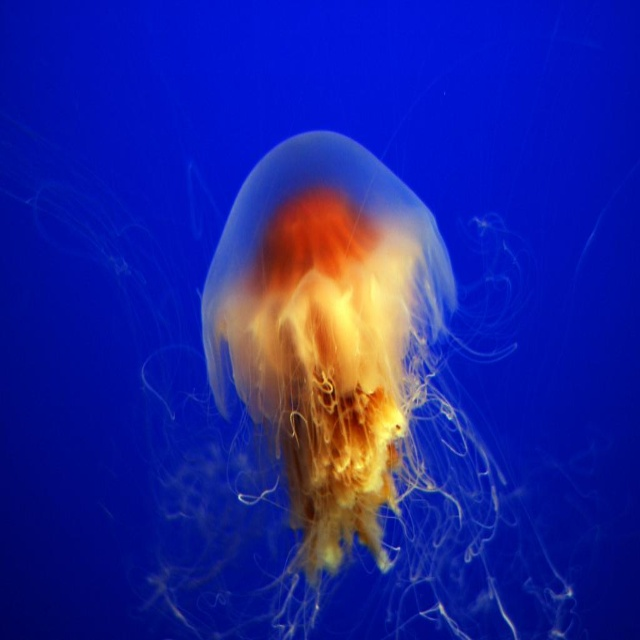Jellyfish: (139, 130, 576, 639)
